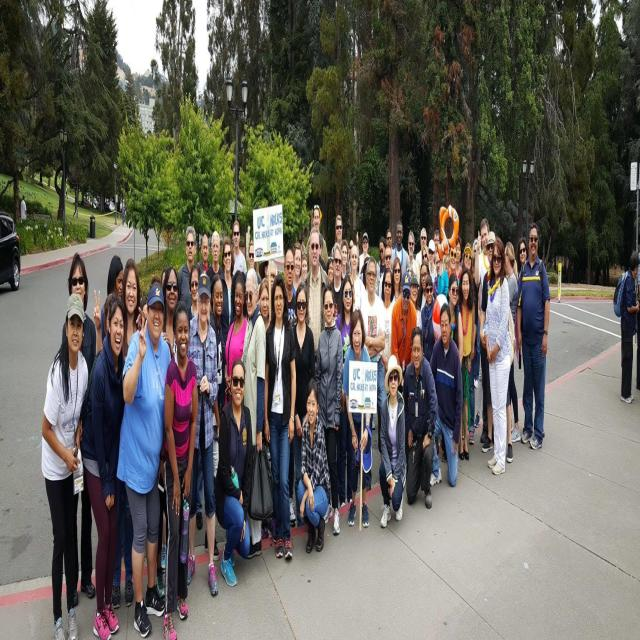body: (115, 273, 175, 639), (40, 289, 89, 639), (80, 290, 126, 640), (135, 266, 180, 600), (61, 249, 97, 608), (182, 267, 220, 596), (162, 294, 198, 640), (211, 354, 256, 591), (262, 270, 298, 562), (288, 277, 318, 553), (479, 229, 514, 465), (516, 218, 551, 453), (312, 282, 343, 537), (484, 233, 516, 477), (241, 266, 267, 558), (402, 325, 438, 510), (342, 307, 372, 529), (428, 301, 463, 488), (361, 253, 388, 494), (204, 271, 226, 562), (296, 377, 331, 557), (258, 276, 278, 544), (473, 216, 495, 448), (379, 352, 407, 530), (93, 256, 141, 358), (334, 272, 354, 510), (612, 246, 640, 407), (303, 226, 331, 379), (284, 247, 298, 528), (458, 265, 476, 461), (504, 239, 521, 444), (225, 268, 249, 406), (391, 270, 417, 395), (433, 270, 464, 370), (308, 229, 328, 380), (341, 272, 354, 498), (100, 252, 125, 352), (432, 250, 462, 328), (378, 265, 396, 377), (220, 235, 237, 348), (176, 224, 197, 310), (140, 266, 168, 326), (306, 204, 328, 278), (205, 229, 223, 315), (437, 237, 460, 301), (350, 243, 366, 322), (421, 274, 435, 364), (329, 240, 344, 323), (391, 219, 411, 280), (416, 260, 436, 315), (350, 244, 364, 321), (415, 226, 432, 279), (187, 262, 202, 322), (232, 219, 247, 278), (244, 238, 262, 286), (378, 245, 393, 302), (516, 235, 529, 297), (374, 234, 387, 296), (196, 233, 212, 282), (291, 240, 303, 297), (330, 214, 345, 257), (410, 271, 420, 332), (103, 291, 115, 341), (636, 249, 640, 392), (359, 230, 371, 276), (453, 236, 463, 290), (461, 240, 474, 281), (392, 254, 402, 304), (428, 238, 438, 285), (407, 229, 417, 274), (340, 238, 350, 282), (386, 228, 396, 271), (266, 257, 278, 292), (360, 253, 370, 293), (299, 249, 309, 285), (472, 236, 482, 271), (442, 234, 450, 276), (501, 241, 509, 282), (258, 258, 270, 284), (421, 243, 430, 270), (326, 256, 334, 286), (433, 228, 441, 254), (20, 194, 27, 222), (72, 189, 78, 220), (612, 260, 620, 280), (124, 204, 130, 228), (121, 206, 125, 227), (65, 184, 68, 200)
